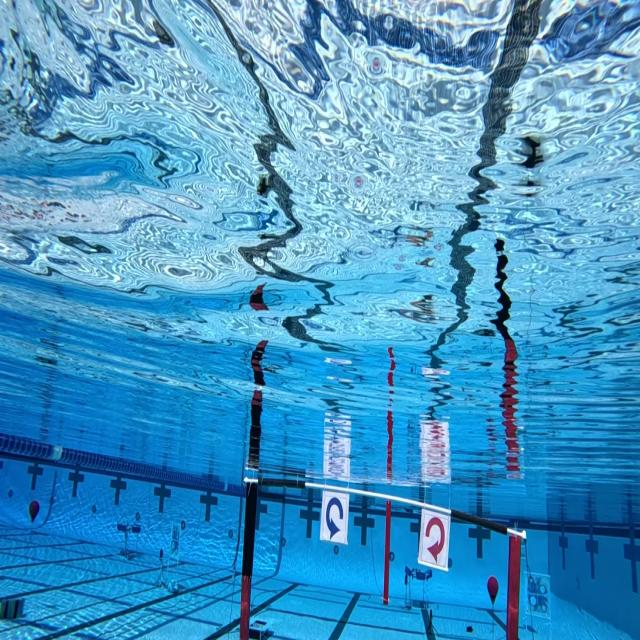blue_side: (320, 484, 348, 550)
red_side: (420, 506, 455, 568)
